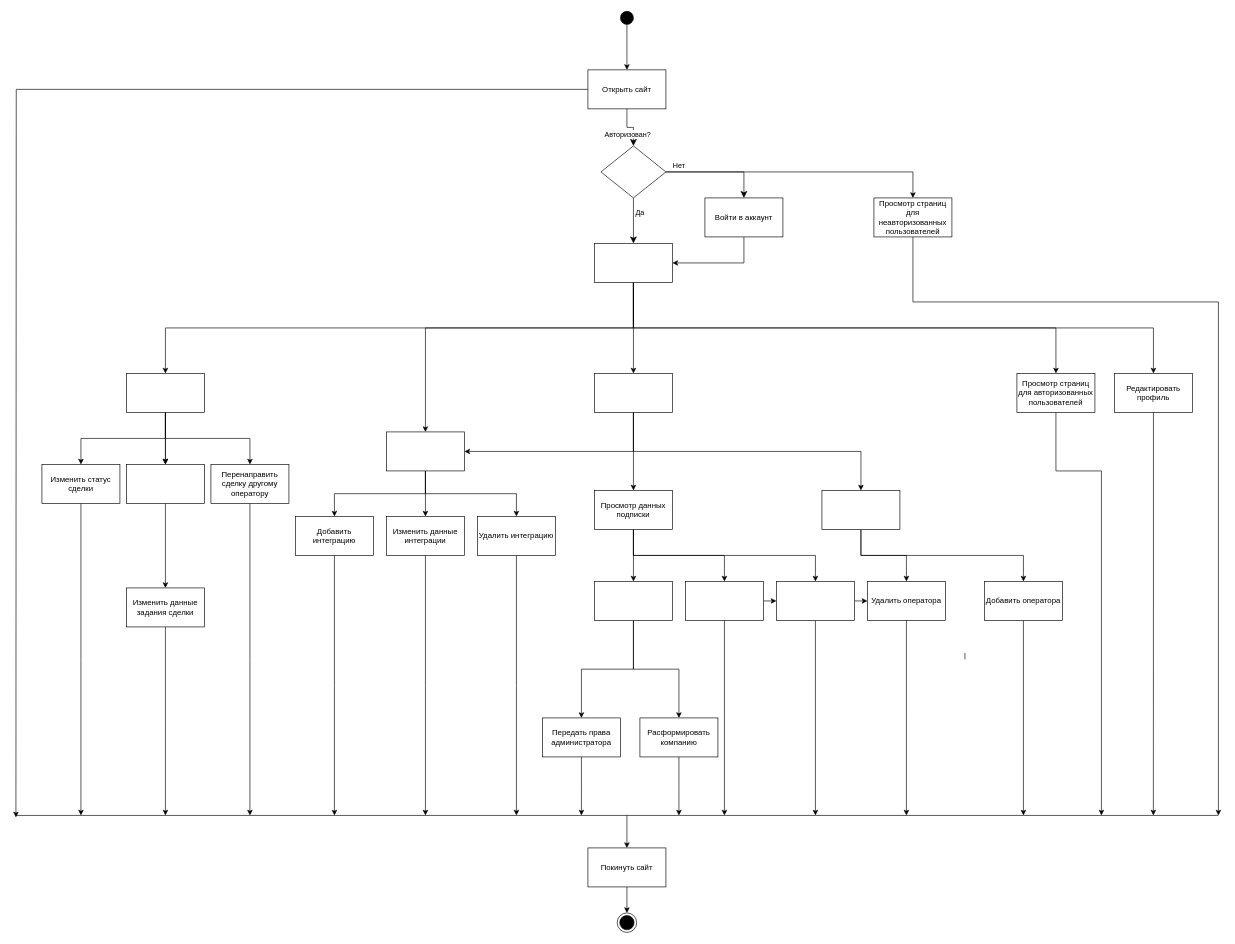
The diagram is 1235 pixels wide and 944 high, and some of its shapes have lost their labels. Each missing label, with the centre of its shape:
"Авторизация" belongs at (x=633, y=262).
"Изменить данные подписки" belongs at (x=815, y=600).
"Отказаться от подписки" belongs at (x=633, y=600).
"Продлить подписку" belongs at (x=724, y=600).
"Просмотр данных компании" belongs at (x=633, y=392).
"Просмотр данных участников компании" belongs at (x=860, y=509).
"Просмотр интеграций" belongs at (x=425, y=451).
"Просмотр сделок" belongs at (x=165, y=392).
"Создать сделку" belongs at (x=165, y=483).
